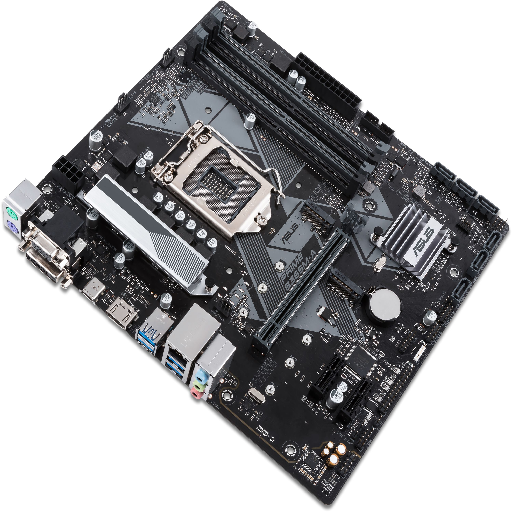CPU: (158, 123, 273, 233)
GPU: (251, 206, 366, 353)
MOTHERBOARD: (16, 1, 511, 506)
RAM: (186, 10, 389, 198)
SSD: (327, 266, 363, 302), (302, 202, 335, 232)
